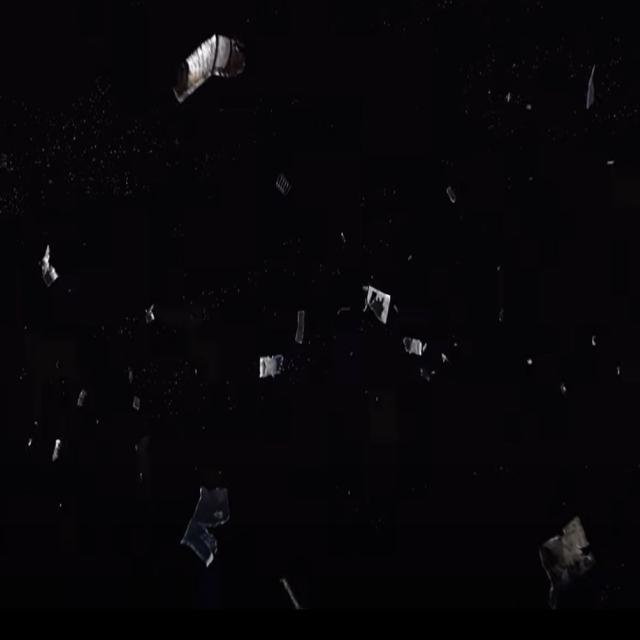large_debris: (529, 501, 612, 622), (156, 19, 256, 110), (177, 468, 235, 586), (353, 270, 395, 342), (29, 235, 63, 299), (252, 341, 290, 391), (398, 325, 430, 371), (44, 420, 67, 474), (290, 303, 312, 355), (140, 300, 164, 332), (273, 166, 291, 202)
